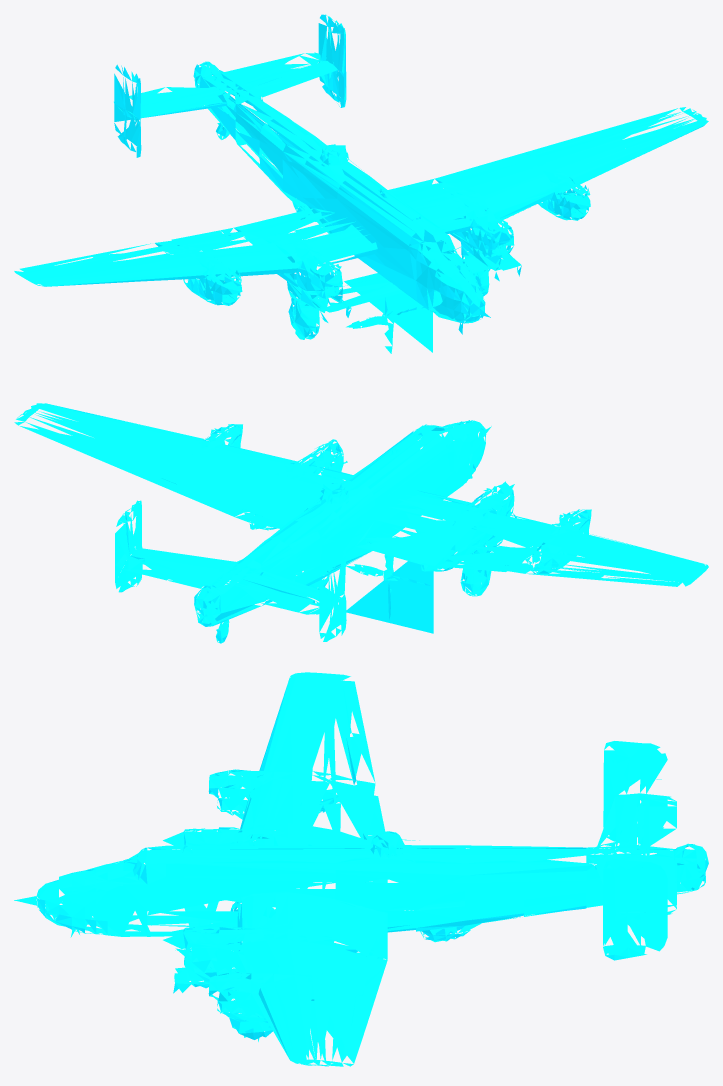
File: PBAD902.glb
3 renders of one model, top to bottom at view 1: azimuth 30°, elevation 25°; view 2: azimuth 150°, elevation 25°; view 3: azimuth 270°, elevation 25°, orthographic. The views are drawn at different scales.
Parts seen in each view (by area): view 1: misc; view 2: misc; view 3: misc.
Boxes of the visible parts, left/top/right/bottom form: misc: left=14, top=14, right=708, bottom=353; misc: left=14, top=403, right=708, bottom=643; misc: left=14, top=672, right=708, bottom=1066.
Size of the model in its own units: 2 by 0.5847 by 1.5.
